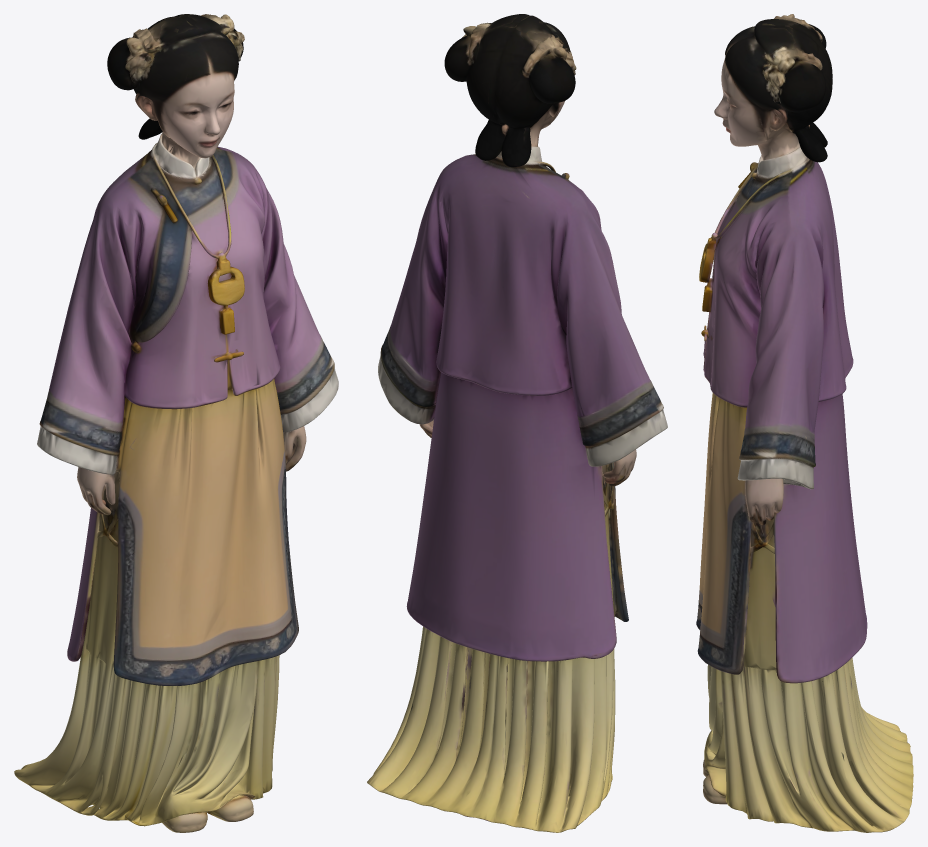
The model's file is xue_baochai.glb.
3 renders of one model, left to right at view 1: azimuth 30°, elevation 25°; view 2: azimuth 150°, elevation 25°; view 3: azimuth 270°, elevation 25°, orthographic. The views are drawn at different scales.
Parts seen in each view (by area): view 1: node_0; view 2: node_0; view 3: node_0.
Boxes of the visible parts, x1,y1,x2,y2 form: node_0: [14, 14, 338, 832]; node_0: [367, 14, 667, 832]; node_0: [696, 14, 913, 832].
Size of the model in its own units: 0.4524 by 1.14 by 0.2951.
1 material, 1 textured.
